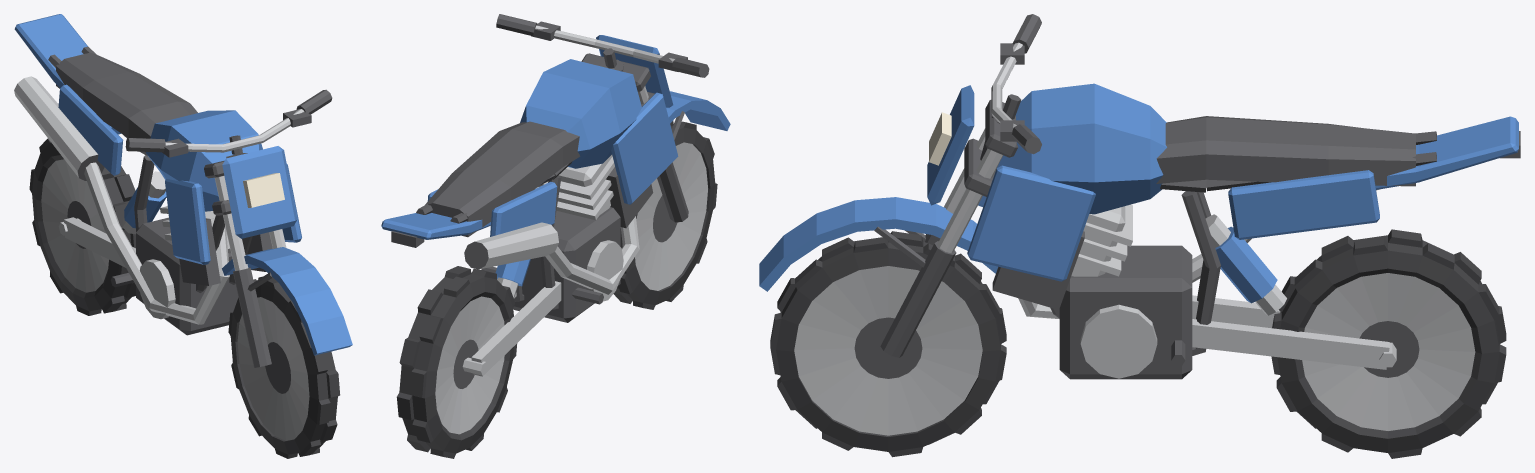
The model's file is Moto.fbx.
3 renders of one model, left to right at view 1: azimuth 30°, elevation 25°; view 2: azimuth 150°, elevation 25°; view 3: azimuth 270°, elevation 25°, orthographic. The views are drawn at different scales.
Visible parts, largest first — view 1: Body, Handlebar, Wheel_0, Wheel_1; view 2: Body, Wheel_1, Wheel_0, Handlebar; view 3: Body, Wheel_1, Wheel_0, Handlebar.
Part boxes in pixels (box(x1,y1,x2,y2)): Body: box(14, 14, 301, 335); Handlebar: box(125, 89, 352, 367); Wheel_0: box(228, 276, 340, 458); Wheel_1: box(29, 138, 135, 315); Body: box(381, 59, 678, 376); Wheel_1: box(396, 266, 517, 458); Wheel_0: box(613, 121, 717, 309); Handlebar: box(496, 14, 730, 222); Body: box(967, 83, 1520, 379); Wheel_1: box(1271, 229, 1506, 458); Wheel_0: box(770, 231, 1006, 457); Handlebar: box(759, 14, 1041, 357).
Size of the model in its own units: 0.8555 by 1.19 by 2.18.
